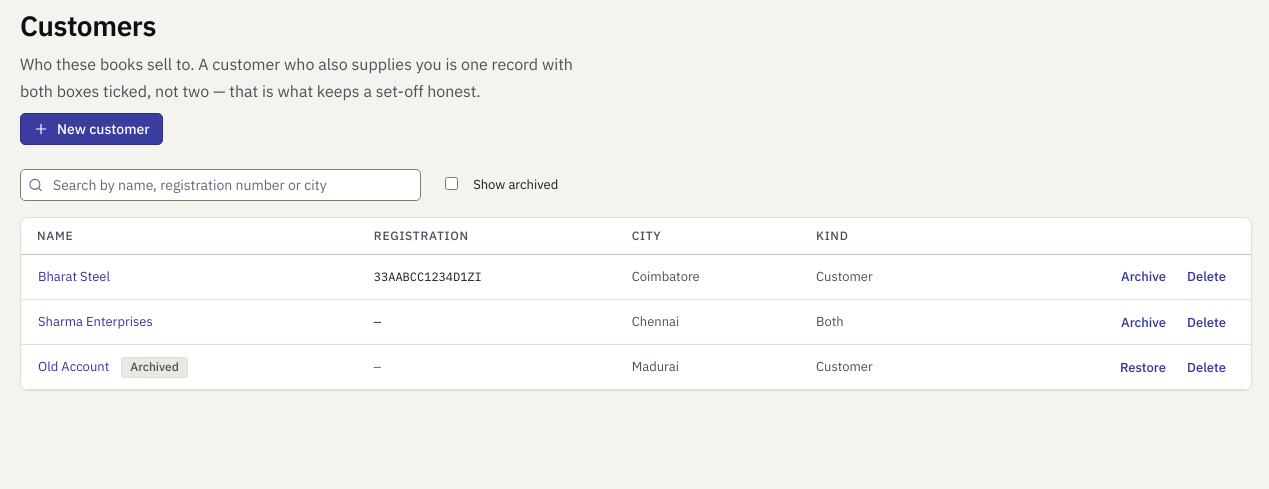
Test case: the list › says so when a search matches nothing
Check: the button "Bharat Steel" is shown, box [29,263,119,291]
Type "zzz" into the field with placeholder "Search by name, registration number or city" at coordinates (221, 185), box [20,169,421,201]
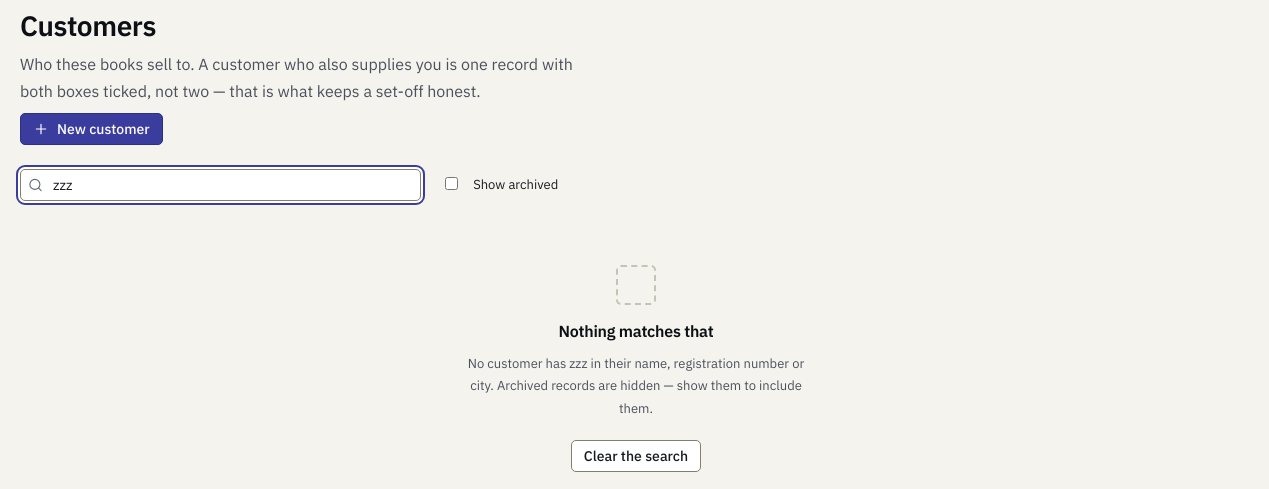
Check: the heading "Nothing matches that" is shown, box [558,321,713,341]
